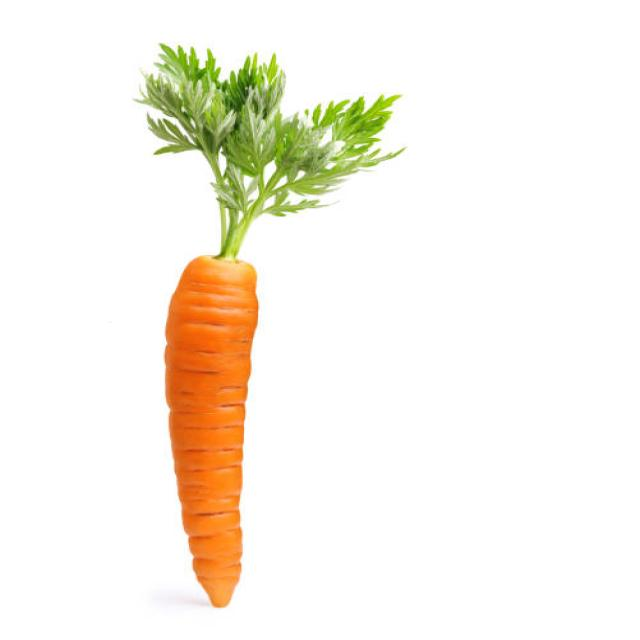organic: (165, 254, 261, 606)
